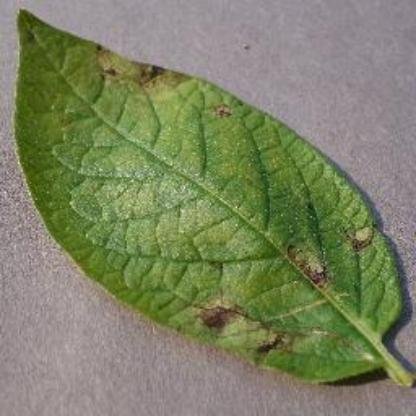Late-Blight: (11, 6, 415, 404)
